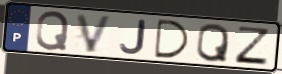D: (154, 17, 192, 60)
J: (118, 19, 147, 55)
Q: (34, 10, 71, 52), (194, 22, 231, 64)
V: (75, 12, 115, 55)
Z: (233, 25, 272, 67)
